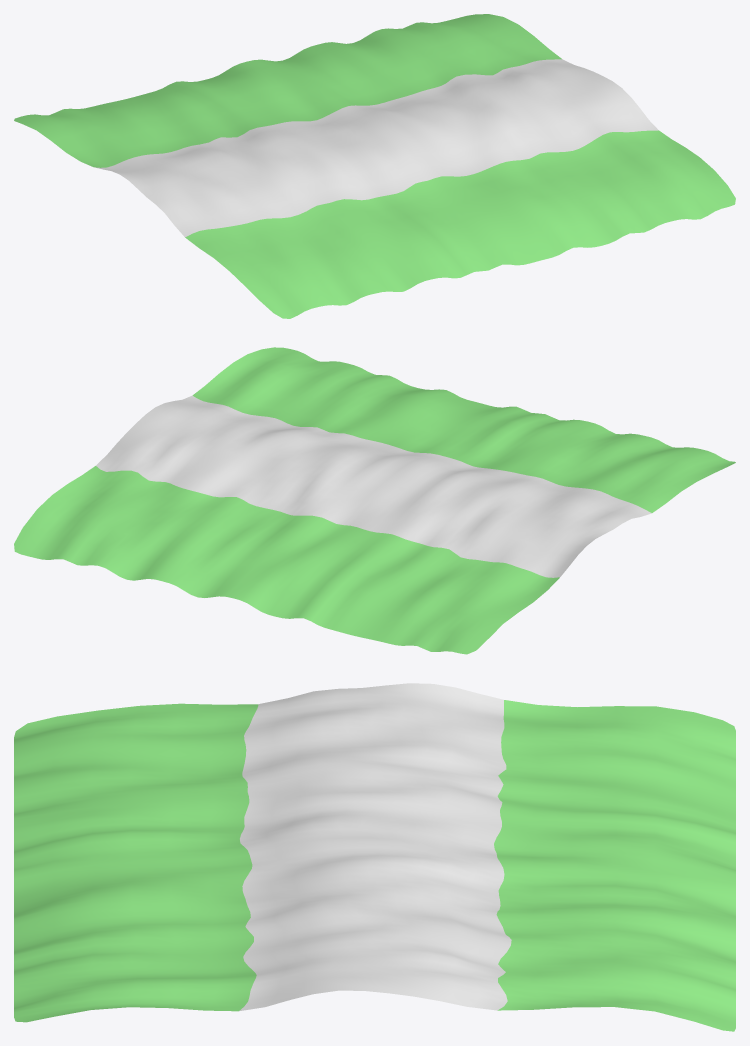
Rendered from pathway.fbx.
3 renders of one model, top to bottom at view 1: azimuth 30°, elevation 25°; view 2: azimuth 150°, elevation 25°; view 3: azimuth 270°, elevation 25°, orthographic. The views are drawn at different scales.
Visible parts, largest first — view 1: Plane; view 2: Plane; view 3: Plane.
Boxes of the visible parts, box(x1,y1,x2,y2) form: Plane: box(14, 14, 735, 318); Plane: box(14, 347, 735, 654); Plane: box(14, 683, 735, 1031).
Bounding box in the file's own units: 200 × 15.43 × 200.
